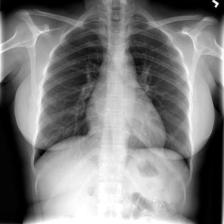normal: (29, 8, 194, 181)
